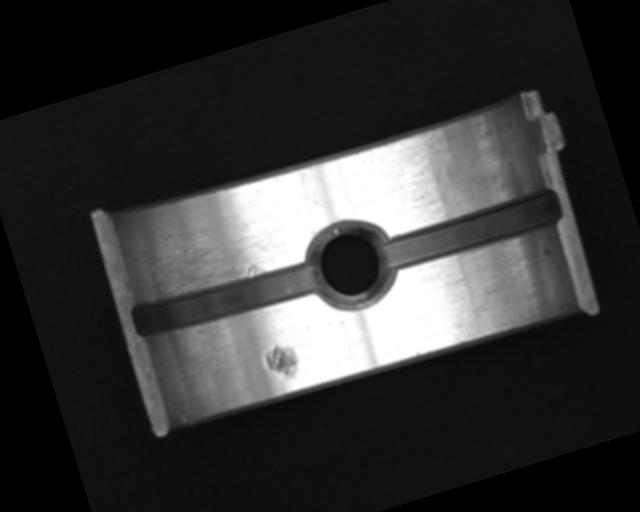bruise: (261, 339, 303, 386)
gap: (128, 248, 325, 348), (378, 186, 566, 275)
hole: (301, 209, 404, 319)
scratch: (127, 175, 311, 309)
